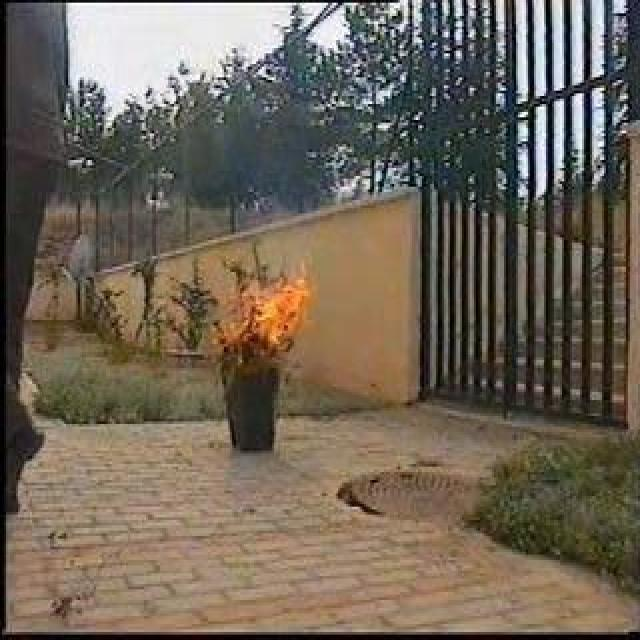Fire: (219, 259, 315, 360)
